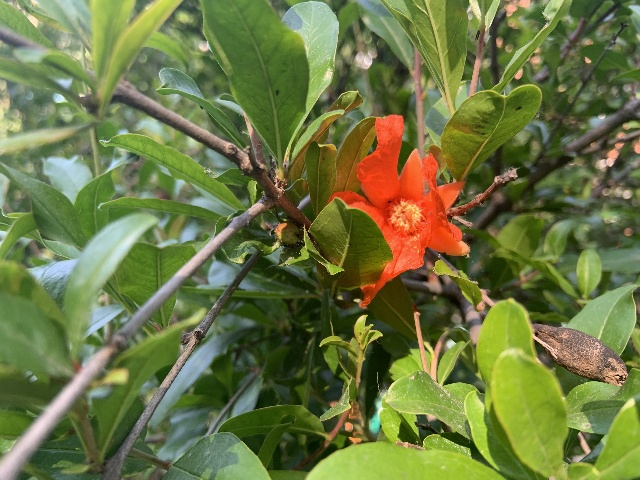flower: (326, 114, 468, 307)
